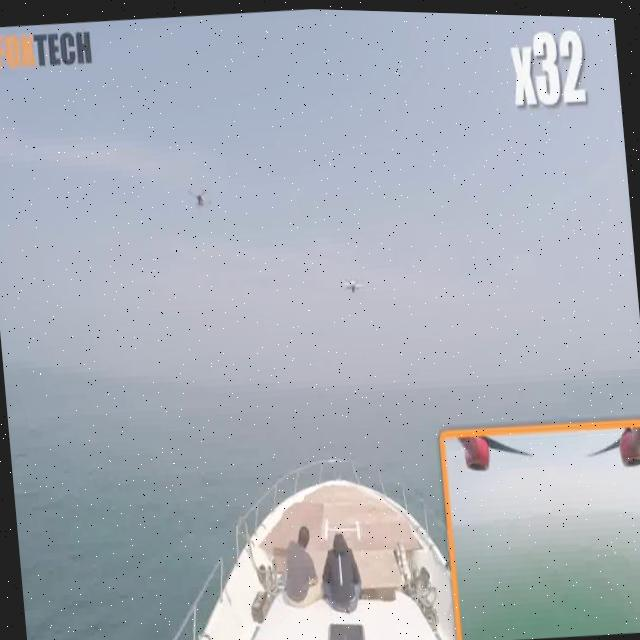drone: (179, 177, 222, 215), (335, 262, 369, 298)
